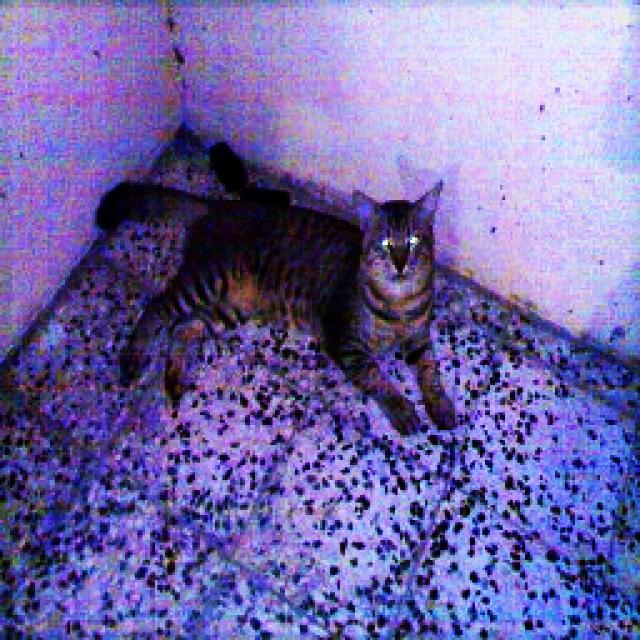cat: (102, 136, 468, 443)
